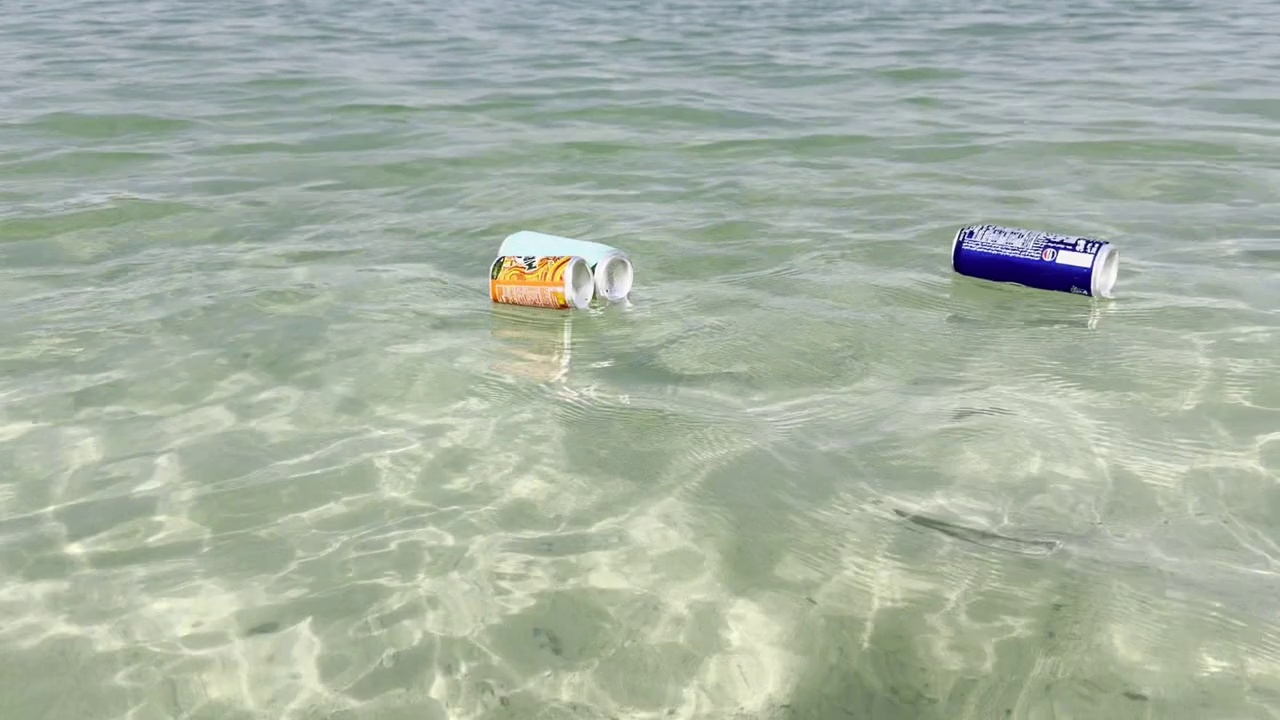debris: (944, 214, 1127, 304), (495, 222, 645, 308), (490, 249, 595, 313)
